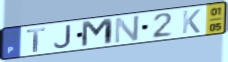2: (152, 12, 174, 40)
J: (52, 24, 73, 49)
K: (181, 8, 202, 35)
M: (80, 17, 115, 49)
N: (113, 14, 141, 46)
T: (25, 26, 47, 53)
